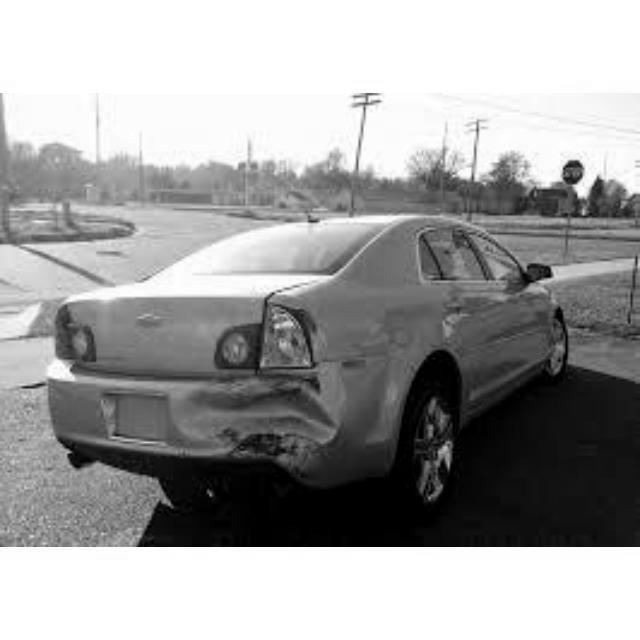rear-bumper-dent: (176, 383, 346, 500)
